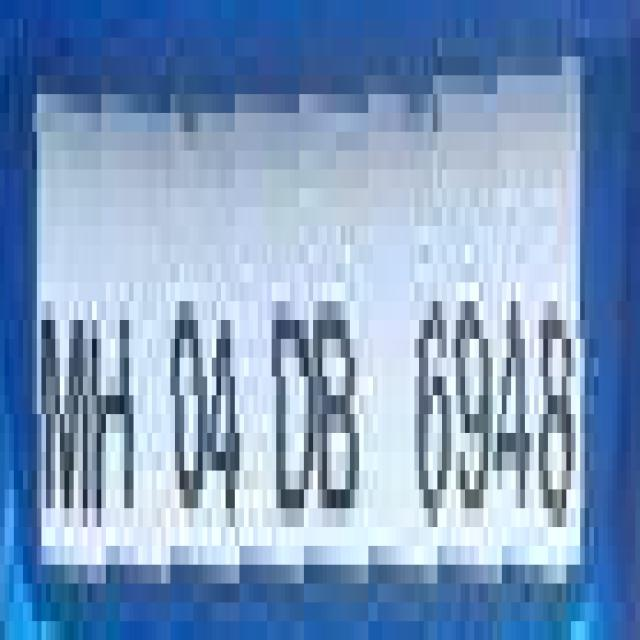license_plate: (9, 56, 599, 640)
